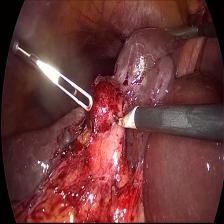Grasper: (27, 49, 98, 118), (162, 22, 198, 47)
Hook: (112, 103, 140, 137)
